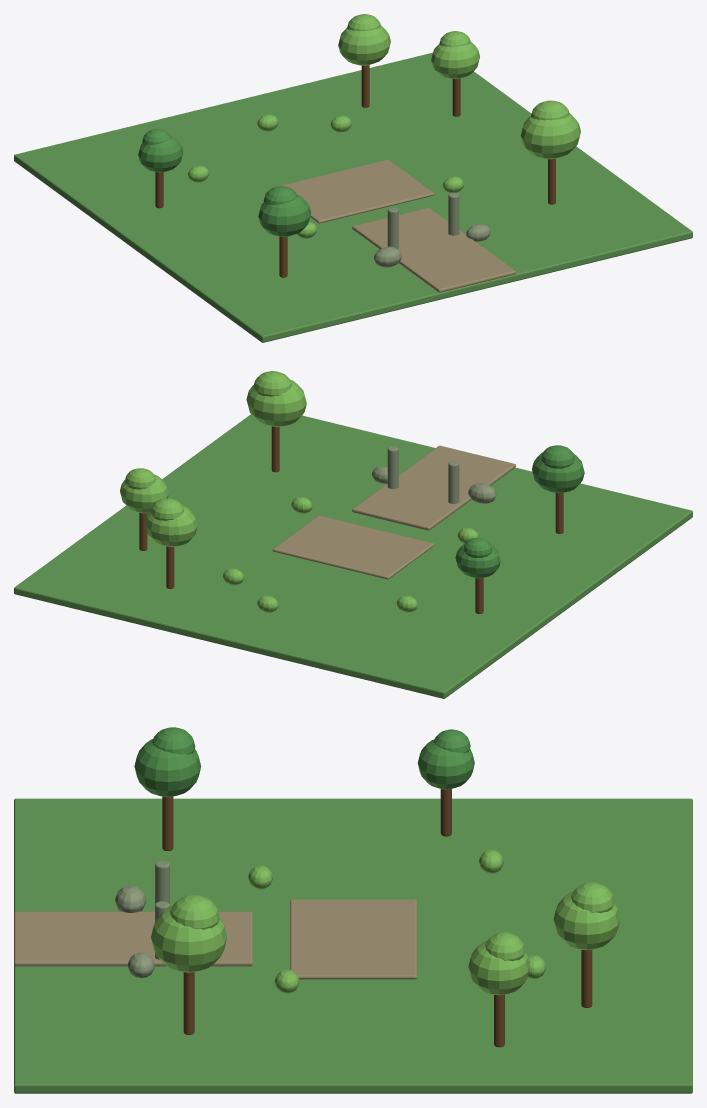
Rendered from chunk_entry.fbx.
3 views of the same model, one above another, from view 1: azimuth 30°, elevation 25°; view 2: azimuth 150°, elevation 25°; view 3: azimuth 270°, elevation 25° (orthographic). The views are drawn at different scales.
Parts seen in each view (by area): view 1: chunk_entry; view 2: chunk_entry; view 3: chunk_entry.
Part boxes in pixels (box(x1,y1,x2,y2)): chunk_entry: box(14, 14, 692, 342); chunk_entry: box(14, 371, 692, 698); chunk_entry: box(14, 727, 692, 1093).
Bounding box in the file's own units: 256 × 60.4 × 256.
